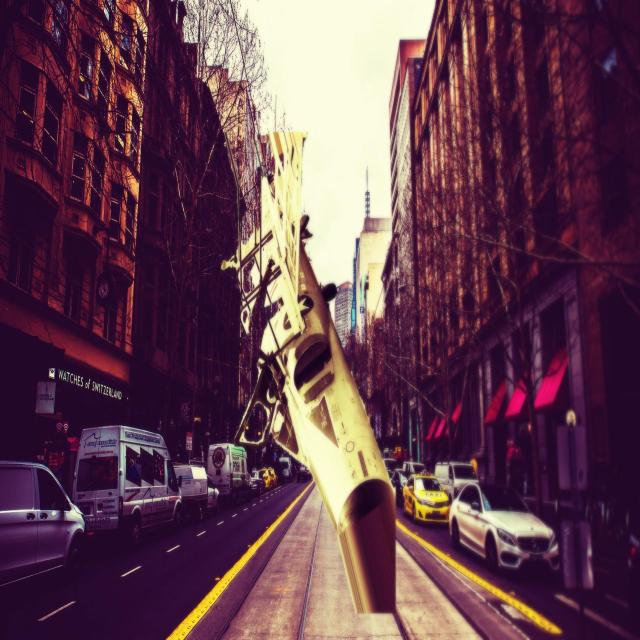airplane: (223, 128, 399, 616)
